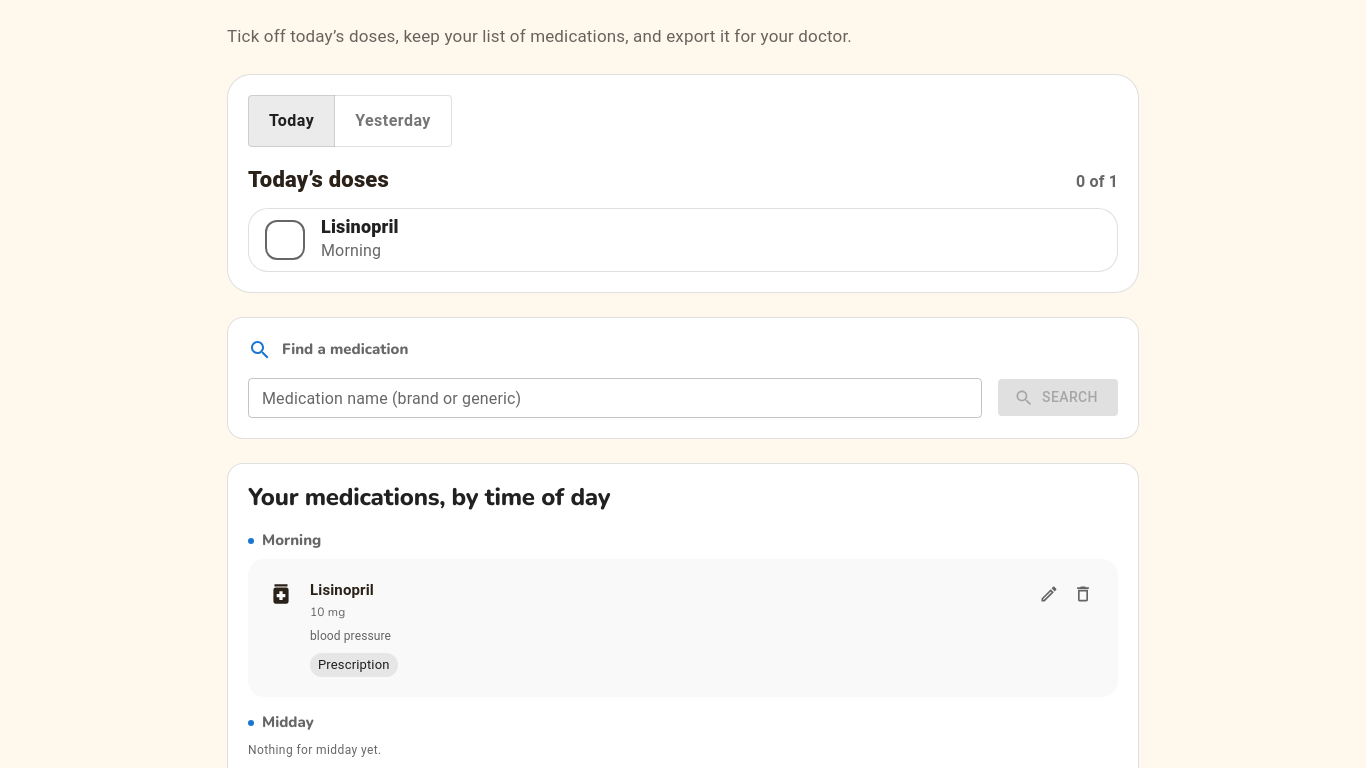
Test: B18 — remove has Undo › says "Removed Lisinopril" with Undo, and Undo re-creates it from the row
Click the button named "Remove Lisinopril" at (1083, 594), box [1068, 579, 1098, 609]
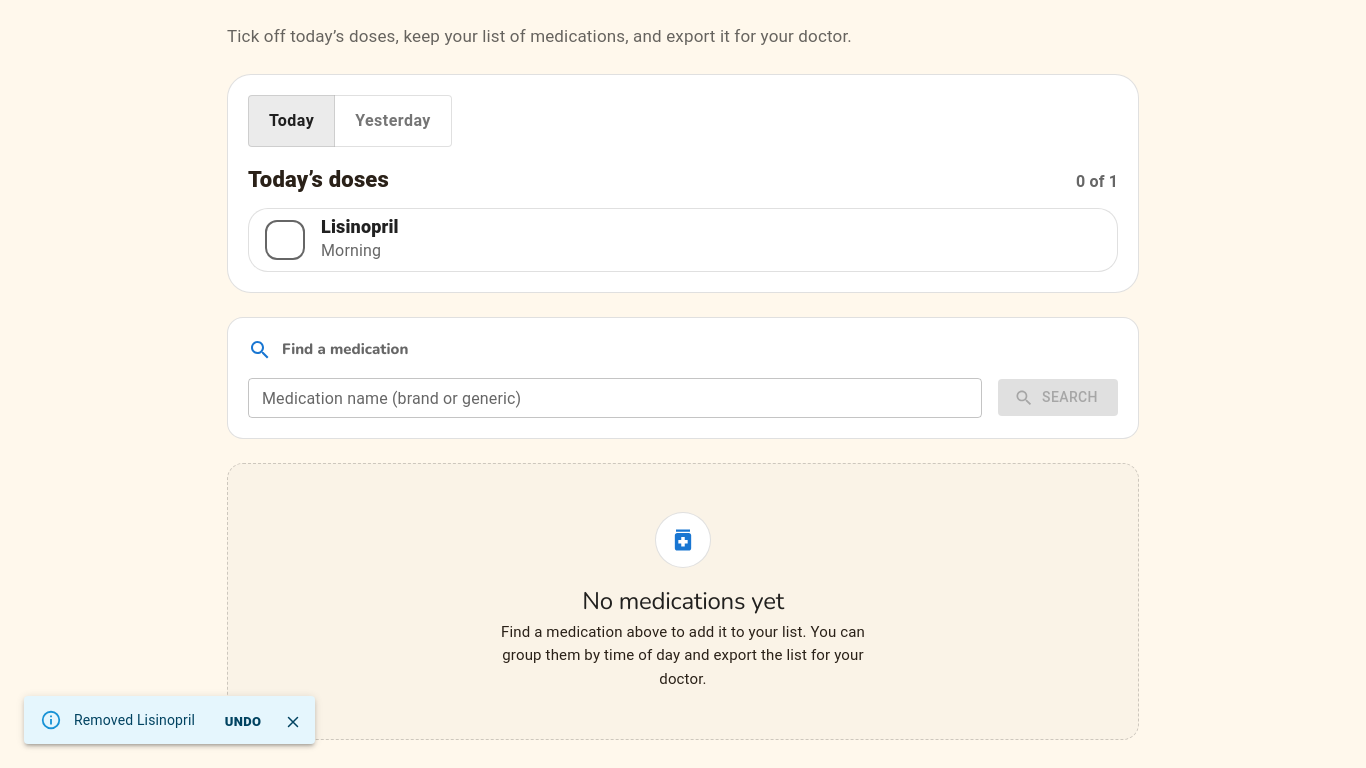
Now the text "Removed Lisinopril" is shown, box [74, 712, 195, 728]
Click the button "Undo" at (243, 722), box [211, 707, 275, 737]
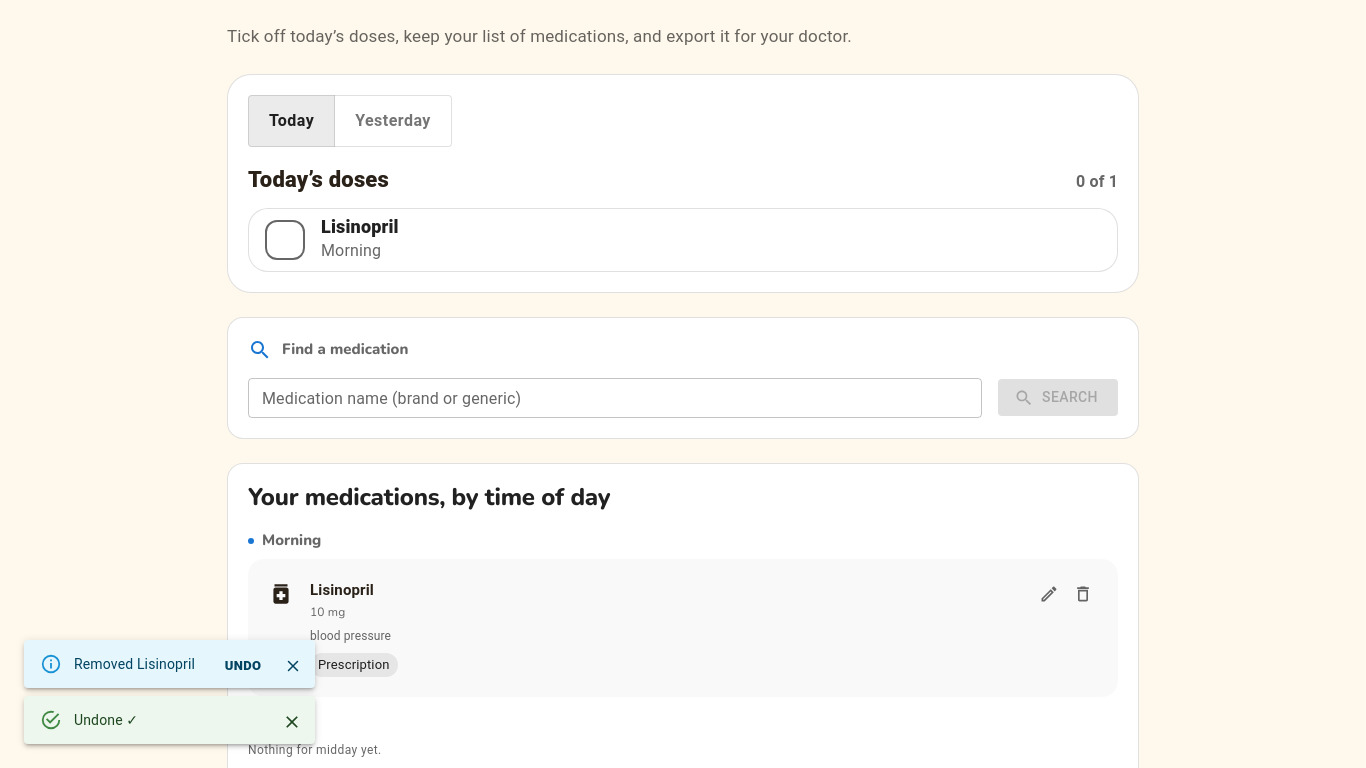
Now the button named "Edit Lisinopril" is shown, box [1034, 579, 1064, 609]
